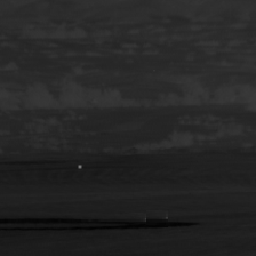Target: (77, 164, 83, 170)
